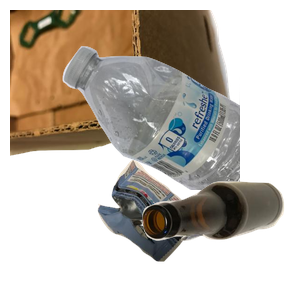cardboard: (10, 10, 237, 158)
glass: (140, 179, 300, 300)
plastic: (60, 44, 300, 224)
trash: (95, 157, 282, 300)
